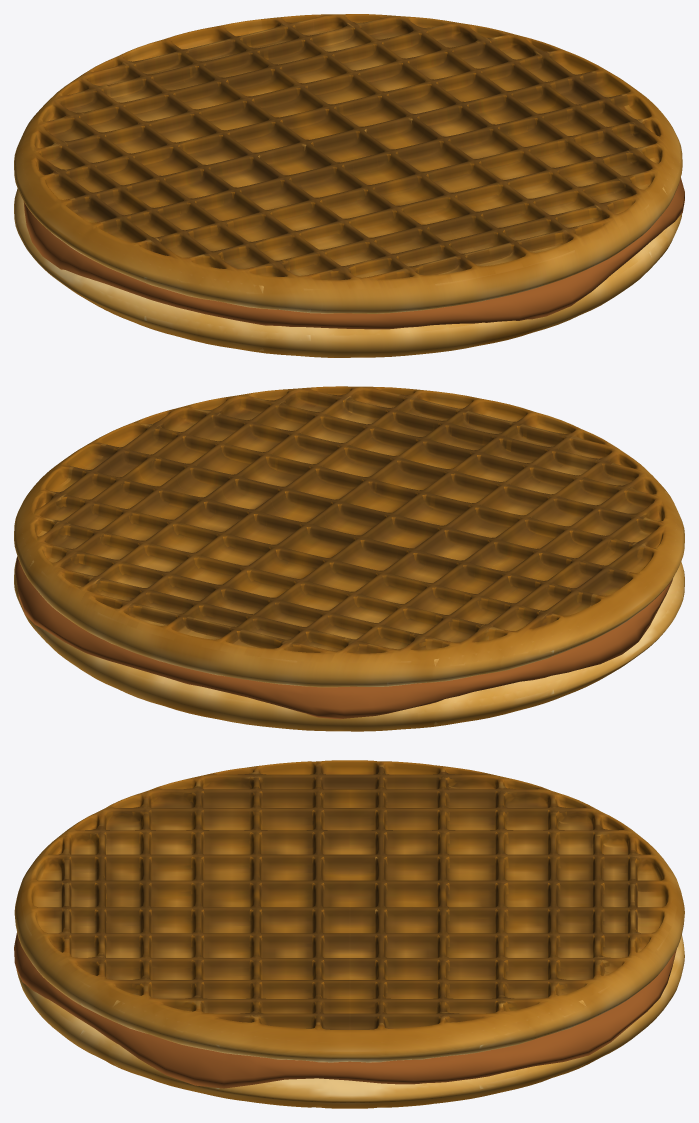
File: Stroopwafel.fbx
3 renders of one model, top to bottom at view 1: azimuth 30°, elevation 25°; view 2: azimuth 150°, elevation 25°; view 3: azimuth 270°, elevation 25°, orthographic.
Visible parts, largest first — view 1: StroopwafelA, StroopwafelB, caramel; view 2: StroopwafelA, StroopwafelB, caramel; view 3: StroopwafelA, caramel, StroopwafelB.
Boxes of the visible parts, <box> form: StroopwafelA: <box>14,14,682,313</box>; StroopwafelB: <box>14,188,682,357</box>; caramel: <box>23,177,684,329</box>; StroopwafelA: <box>14,386,684,687</box>; StroopwafelB: <box>14,561,684,731</box>; caramel: <box>15,556,672,719</box>; StroopwafelA: <box>14,760,684,1062</box>; caramel: <box>14,932,676,1088</box>; StroopwafelB: <box>16,935,684,1108</box>.
Bounding box in the file's own units: 462 × 59.65 × 455.
3 materials, 2 textured.
